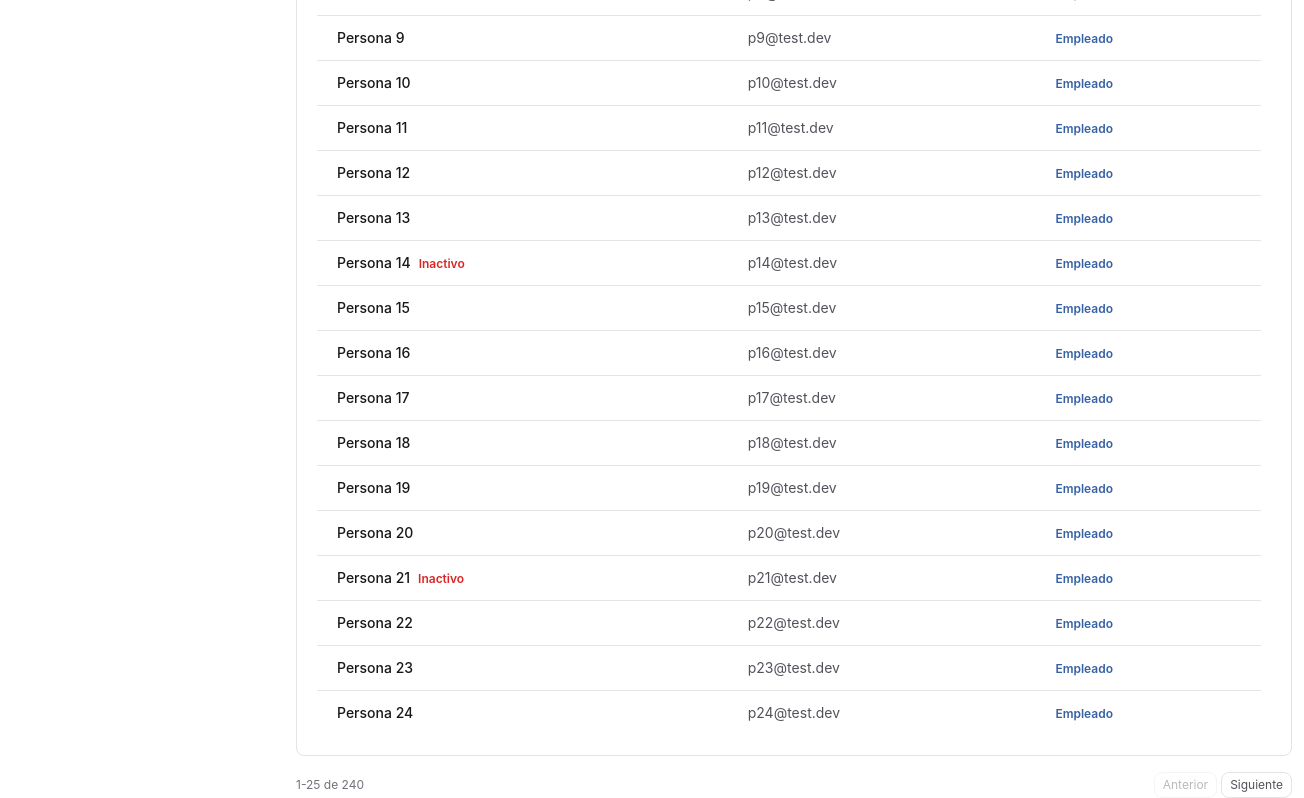
Test: Employees at scale › goes back to the first page when a filter changes
(page scrolled)
Click the button "Siguiente" at (1257, 785), box [1221, 772, 1292, 797]
(page scrolled)
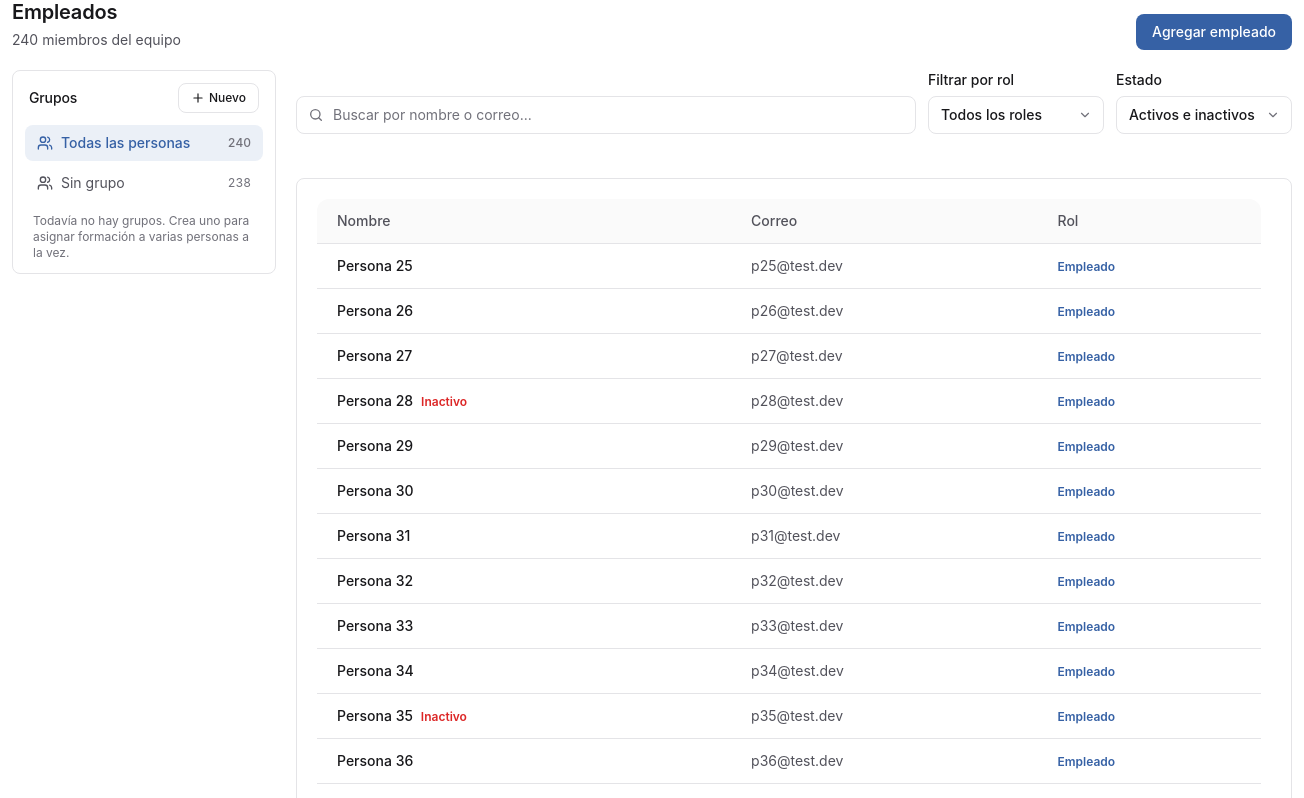
Select "Admin" in the dropdown labelled "Filtrar por rol" at (1016, 115), box [928, 96, 1104, 134]
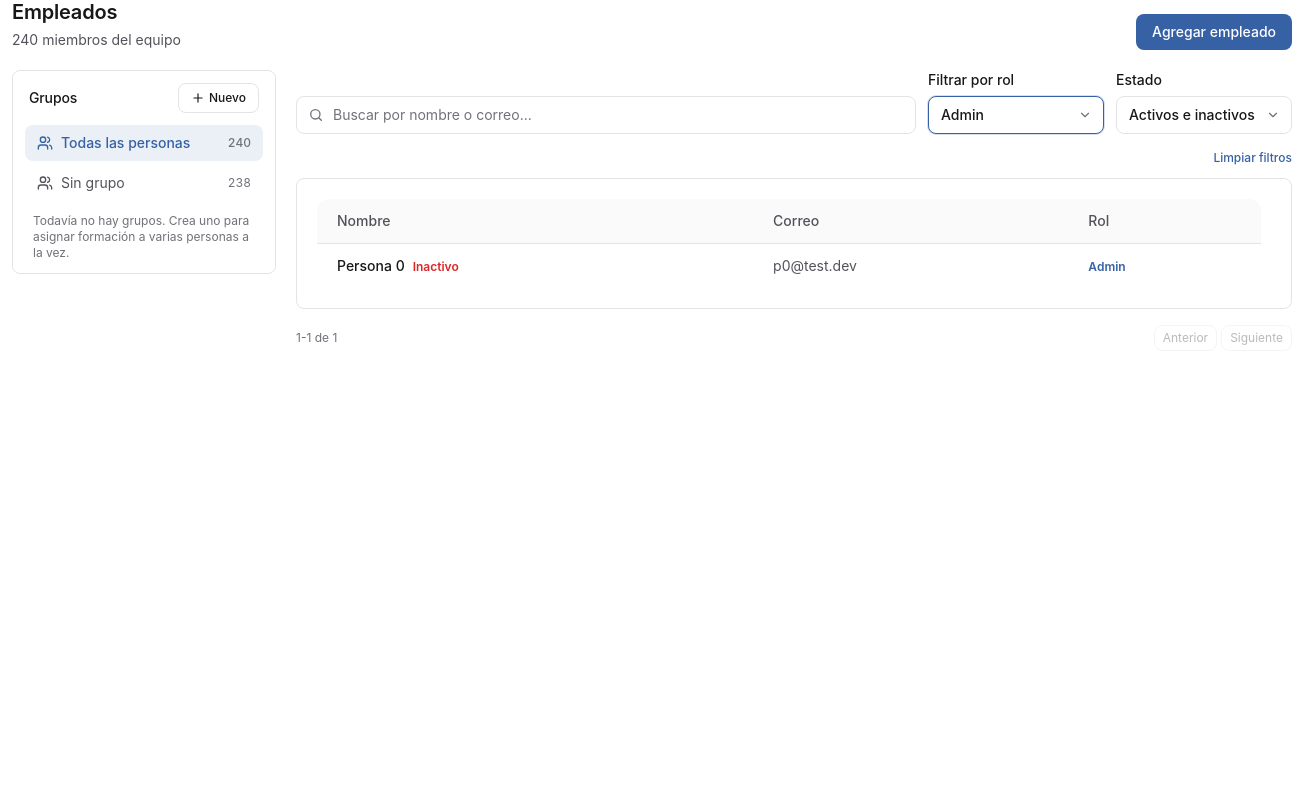
Result: the text "1-1 de 1" is shown at [296, 330, 337, 346]
